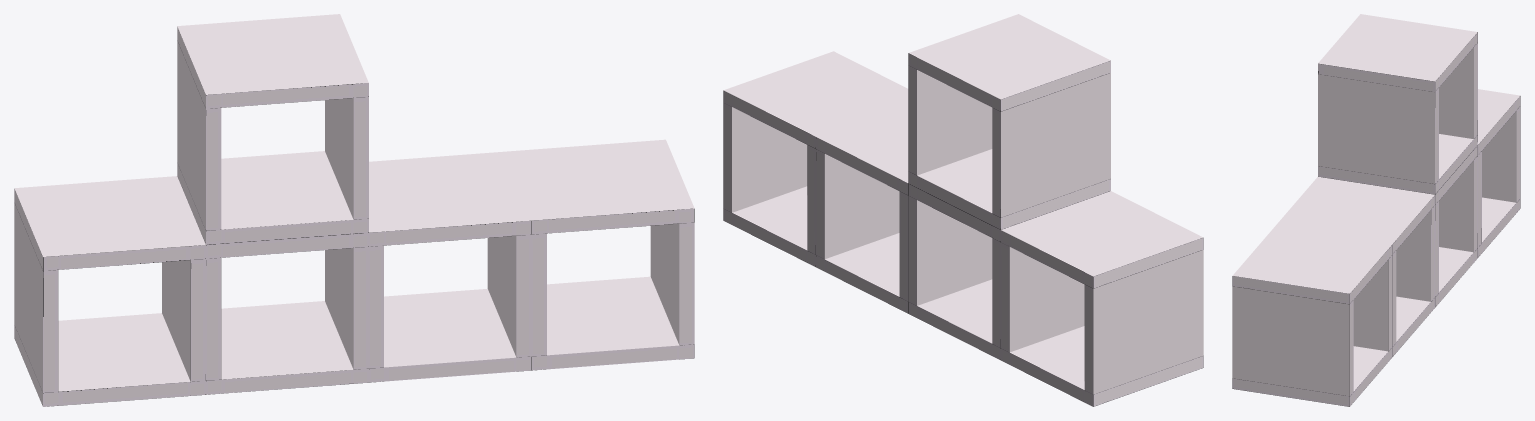
3 renders of one model, left to right at view 1: azimuth 30°, elevation 25°; view 2: azimuth 150°, elevation 25°; view 3: azimuth 270°, elevation 25°, orthographic. The views are drawn at different scales.
Parts seen in each view (by area): view 1: Joint_0_Object_2, Joint_0_Object_1, Joint_0_Object_0, Joint_0_Object_4, Joint_0_Object_3; view 2: Joint_0_Object_1, Joint_0_Object_2, Joint_0_Object_0, Joint_0_Object_4, Joint_0_Object_3; view 3: Joint_0_Object_0, Joint_0_Object_1, Joint_0_Object_4, Joint_0_Object_2, Joint_0_Object_3.
Part boxes in pixels (x1,y1,x2,y2): Joint_0_Object_2: (14, 176, 205, 406); Joint_0_Object_1: (177, 14, 368, 244); Joint_0_Object_0: (503, 139, 694, 370); Joint_0_Object_4: (369, 152, 531, 382); Joint_0_Object_3: (206, 232, 368, 394); Joint_0_Object_1: (908, 14, 1110, 229); Joint_0_Object_2: (1001, 191, 1203, 406); Joint_0_Object_0: (723, 51, 908, 266); Joint_0_Object_4: (816, 104, 908, 313); Joint_0_Object_3: (908, 183, 1000, 360); Joint_0_Object_0: (1232, 226, 1392, 406); Joint_0_Object_1: (1318, 14, 1477, 194); Joint_0_Object_4: (1275, 176, 1434, 356); Joint_0_Object_2: (1477, 89, 1520, 257); Joint_0_Object_3: (1435, 146, 1477, 307).
Bounding box in the file's own units: 3369 × 1643 × 1896.
2 materials, 2 textured.
